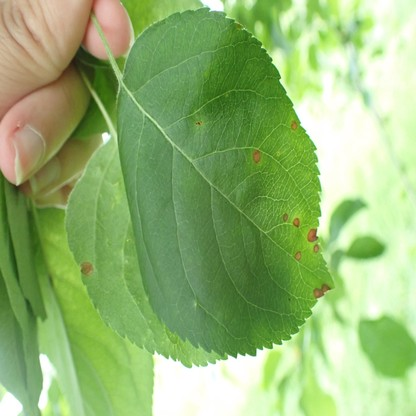frogeye_leaf_spot: (282, 213, 319, 259), (314, 284, 330, 298), (80, 262, 93, 275), (252, 150, 261, 164), (292, 121, 298, 130)
